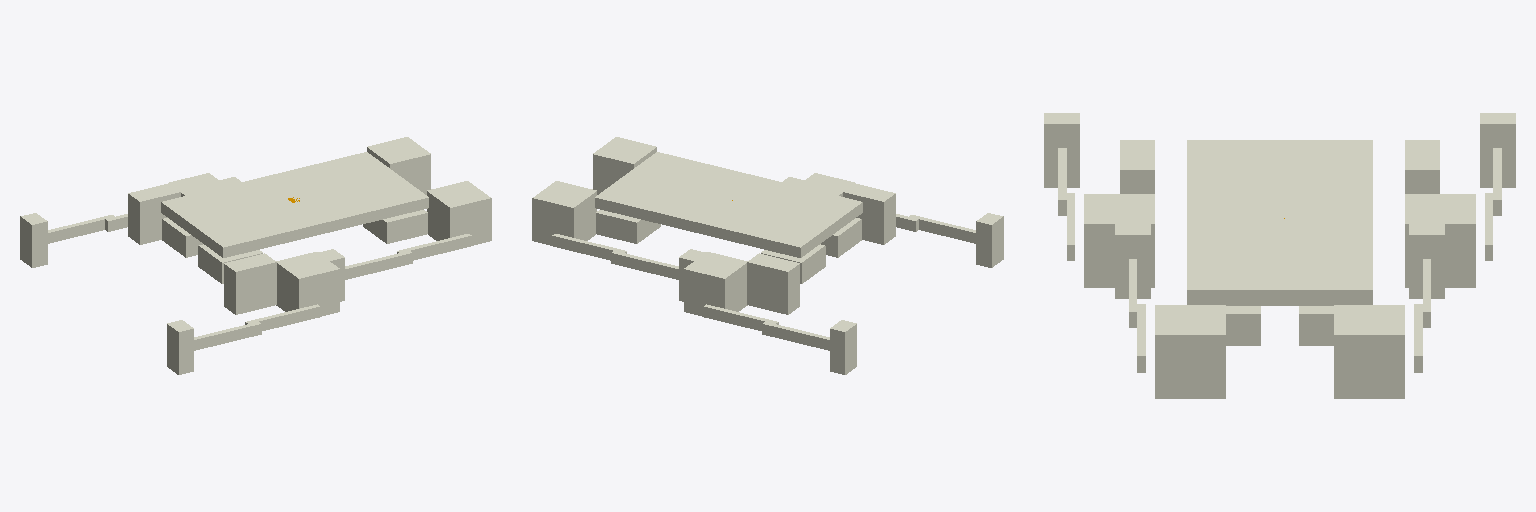
--- Render facts (derived) ---
3 views of the same robot in one strip: view 1: azimuth 30°, elevation 25°; view 2: azimuth 150°, elevation 25°; view 3: azimuth 270°, elevation 25° (orthographic).
Robot: stuart — 25 links, 24 joints (14 revolute, 4 continuous, 6 fixed); root link world; default pose: all joints at 0.
Visible links, largest first — view 1: chassis, motorFR2, motorRR3, motorRR2, motorRL2, motorFL2, RL_foot, motorFR1, RR_foot, FR_calf, RR_calf, motorRL1 (+5 smaller); view 2: chassis, motorFL2, motorRL3, motorRL2, motorRR2, motorFR2, RR_foot, motorFL1, RL_foot, FL_calf, RL_calf, motorRR1 (+5 smaller); view 3: chassis, motorFL2, motorFR2, motorRL3, motorRR3, FL_foot, FR_foot, RL_foot, RR_foot, motorRL2, motorRR2, motorFL1 (+9 smaller).
Link boxes in pixels (<box>): chassis: <box>161,152,428,257</box>; motorFR2: <box>427,181,491,245</box>; motorRR3: <box>276,252,339,316</box>; motorRR2: <box>224,253,276,314</box>; motorRL2: <box>128,183,180,244</box>; motorFL2: <box>367,137,430,194</box>; RL_foot: <box>20,213,47,267</box>; motorFR1: <box>363,210,427,243</box>; RR_foot: <box>167,320,193,374</box>; FR_calf: <box>345,251,412,279</box>; RR_calf: <box>194,322,261,350</box>; motorRL1: <box>162,218,202,257</box>; chassis: <box>595,152,862,257</box>; motorFL2: <box>532,181,596,245</box>; motorRL3: <box>684,252,747,316</box>; motorRL2: <box>747,253,799,314</box>; motorRR2: <box>843,183,895,244</box>; motorFR2: <box>593,137,656,194</box>; RR_foot: <box>976,213,1003,267</box>; motorFL1: <box>596,210,660,243</box>; RL_foot: <box>830,320,856,374</box>; FL_calf: <box>611,251,678,279</box>; RL_calf: <box>762,322,829,350</box>; motorRR1: <box>821,218,861,257</box>; chassis: <box>1187,140,1372,305</box>; motorFL2: <box>1334,305,1404,398</box>; motorFR2: <box>1155,305,1225,398</box>; motorRL3: <box>1405,194,1475,287</box>; motorRR3: <box>1084,194,1154,287</box>; FL_foot: <box>1409,224,1444,298</box>; FR_foot: <box>1115,224,1150,298</box>; RL_foot: <box>1480,113,1515,187</box>; RR_foot: <box>1044,113,1079,187</box>; motorRL2: <box>1405,140,1439,193</box>; motorRR2: <box>1120,140,1154,193</box>; motorFL1: <box>1299,306,1333,345</box>.
Bounding box of the posed robot: 0.34 × 0.266 × 0.065 m (x, y, z).
Geometry: primitives only (box / cylinder / sphere), no mesh files.

URDF robot description (stuart):
<?xml version="1.0" ?>

<robot name="stuart" xmlns:xacro="http://wiki.ros.org/xacro">

  <material name="grey">
    <color rgba="0.5 0.5 0.5 1"/>
  </material>
  <material name="dark_grey">
    <color rgba="0.3 0.3 0.3 1"/>
  </material>
  <material name="red">
    <color rgba="1.0 0.0 0.0 1"/>
  </material>
  <material name="green">
    <color rgba="0.0 1.0 0.0 1"/>
  </material>
  <material name="black">
    <color rgba="0.1 0.1 0.1 1"/>
  </material>
  <material name="light_grey">
    <color rgba="0.8 0.8 0.8 1"/>
  </material>
  <material name="blue">
    <color rgba="0.0 0.0 0.8 1.0"/>
  </material>
  <material name="silver">
    <color rgba="0.913725490196 0.913725490196 0.847058823529 1.0"/>
  </material>
  <material name="orange">
    <color rgba="1.0 0.423529411765 0.0392156862745 1.0"/>
  </material>
  <material name="brown">
    <color rgba="0.870588235294 0.811764705882 0.764705882353 1.0"/>
  </material>
  <material name="white">
    <color rgba="1.0 1.0 1.0 1.0"/>
  </material>

  <link name="world"/>
   <joint name="reference" type="fixed">
     <origin xyz="0.0 0.0 0.5"/>
     <parent link="world"/>
     <child link="chassis"/>
   </joint>

  <link name="chassis">
    <visual>
      <origin rpy="0 0 0" xyz="0 0 0"/>
      <geometry>
        <!--<mesh filename="package://stuart_urdf/meshes/chassis.dae"/> -->
	<box size="0.2 0.105 0.01"/>
      </geometry>
      <material name="silver"/>
    </visual>
    <collision>
      <origin rpy="0 0 0" xyz="0 0 0"/>
      <geometry>
        <box size="0.2 0.105 0.01"/>
      </geometry>
    </collision>
    <inertial>
      <origin rpy="0 0 0" xyz="0.002284 -4.1e-05 0.025165"/>
      <mass value="1.065"/>
      <inertia ixx="0.073348887" ixy="0.00030338" ixz="0.001918218" iyy="0.250684593" iyz="-7.5402e-05" izz="0.254469458"/>
    </inertial>
  </link>

  <!--<link name="pi">
    <visual>
      <origin rpy="0 0 0" xyz="0 0 0"/>
      <geometry>
	<box size="0.06 0.09 0.024"/>
      </geometry>
      <material name="orange"/>
    </visual>
    <collision>
      <origin rpy="0 0 0" xyz="0 0 0"/>
      <geometry>
        <box size="0.06 0.09 0.024"/>
      </geometry>
    </collision>
    <inertial>
      <origin rpy="0 0 0" xyz="0.002284 -4.1e-05 0.025165"/>
      <mass value="0.045"/>
      <inertia ixx="0.073348887" ixy="0.00030338" ixz="0.001918218" iyy="0.250684593" iyz="-7.5402e-05" izz="0.254469458"/>
    </inertial>
  </link>
  <joint name="pi_chassis" type="fixed">
    <parent link="chassis"/>
    <child link="pi"/>
    <origin rpy="0 0 0" xyz="-0.055 0 0.017"/>
    <axis xyz="0 0 0"/>
    <dynamics damping="0" friction="0"/>
    <limit effort="100" velocity="100"/>
  </joint>

  <link name="imu">
    <visual>
      <origin rpy="0 0 0" xyz="0 0 0"/>
      <geometry>
	<box size="0.051 0.036 0.015"/>
      </geometry>
      <material name="orange"/>
    </visual>
    <collision>
      <origin rpy="0 0 0" xyz="0 0 0"/>
      <geometry>
        <box size="0.051 0.036 0.015"/>
      </geometry>
    </collision>
    <inertial>
      <origin rpy="0 0 0" xyz="0.002284 -4.1e-05 0.025165"/>
      <mass value="0.05"/>
      <inertia ixx="0.073348887" ixy="0.00030338" ixz="0.001918218" iyy="0.250684593" iyz="-7.5402e-05" izz="0.254469458"/>
    </inertial>
  </link>
  <joint name="imu_chassis" type="fixed">
    <parent link="chassis"/>
    <child link="imu"/>
    <origin rpy="0 0 0" xyz="0.0705 0 0.0125"/>
    <axis xyz="0 0 0"/>
    <dynamics damping="0" friction="0"/>
    <limit effort="100" velocity="100"/>
  </joint>

  <link name="servodriver">
    <visual>
      <origin rpy="0 0 0" xyz="0 0 0"/>
      <geometry>
	<box size="0.024 0.06 0.024"/>
      </geometry>
      <material name="orange"/>
    </visual>
    <collision>
      <origin rpy="0 0 0" xyz="0 0 0"/>
      <geometry>
        <box size="0.024 0.06 0.024"/>
      </geometry>
    </collision>
    <inertial>
      <origin rpy="0 0 0" xyz="0.002284 -4.1e-05 0.025165"/>
      <mass value="0.009"/>
      <inertia ixx="0.073348887" ixy="0.00030338" ixz="0.001918218" iyy="0.250684593" iyz="-7.5402e-05" izz="0.254469458"/>
    </inertial>
  </link>
  <joint name="servodriver_chassis" type="fixed">
    <parent link="chassis"/>
    <child link="servodriver"/>
    <origin rpy="0 0 0" xyz="0.045 0 0.037"/>
    <axis xyz="0 0 0"/>
    <dynamics damping="0" friction="0"/>
    <limit effort="100" velocity="100"/>
  </joint>-->




  <link name="motorFL1">
    <visual>
      <origin rpy="0 0 0" xyz="0 0 0"/>
      <geometry>
	<box size="0.04 0.04 0.02"/>
      </geometry>
      <material name="silver"/>
    </visual>
    <collision>
      <origin rpy="0 0 0" xyz="0 0 0"/>
      <geometry>
	<box size="0.04 0.04 0.02"/>
      </geometry>
    </collision>
    <inertial>
      <origin rpy="0 0 0" xyz="0.002284 -4.1e-05 0.025165"/>
      <mass value="0.057"/>
      <inertia ixx="0.073348887" ixy="0.00030338" ixz="0.001918218" iyy="0.250684593" iyz="-7.5402e-05" izz="0.254469458"/>
    </inertial>
  </link>

  <link name="motorFR1">
    <visual>
      <origin rpy="0 0 0" xyz="0 0 0"/>
      <geometry>
	<box size="0.04 0.04 0.02"/>
      </geometry>
      <material name="silver"/>
    </visual>
    <collision>
      <origin rpy="0 0 0" xyz="0 0 0"/>
      <geometry>
	<box size="0.04 0.04 0.02"/>
      </geometry>
    </collision>
    <inertial>
      <origin rpy="0 0 0" xyz="0.002284 -4.1e-05 0.025165"/>
      <mass value="0.057"/>
      <inertia ixx="0.073348887" ixy="0.00030338" ixz="0.001918218" iyy="0.250684593" iyz="-7.5402e-05" izz="0.254469458"/>
    </inertial>
  </link>

  <link name="motorRL1">
    <visual>
      <origin rpy="0 0 0" xyz="0 0 0"/>
      <geometry>
	<box size="0.04 0.04 0.02"/>
      </geometry>
      <material name="silver"/>
    </visual>
    <collision>
      <origin rpy="0 0 0" xyz="0 0 0"/>
      <geometry>
	<box size="0.04 0.04 0.02"/>
      </geometry>
    </collision>
    <inertial>
      <origin rpy="0 0 0" xyz="0.002284 -4.1e-05 0.025165"/>
      <mass value="0.057"/>
      <inertia ixx="0.073348887" ixy="0.00030338" ixz="0.001918218" iyy="0.250684593" iyz="-7.5402e-05" izz="0.254469458"/>
    </inertial>
  </link>

  <link name="motorRR1">
    <visual>
      <origin rpy="0 0 0" xyz="0 0 0"/>
      <geometry>
	<box size="0.04 0.04 0.02"/>
      </geometry>
      <material name="silver"/>
    </visual>
    <collision>
      <origin rpy="0 0 0" xyz="0 0 0"/>
      <geometry>
	<box size="0.04 0.04 0.02"/>
      </geometry>
    </collision>
    <inertial>
      <origin rpy="0 0 0" xyz="0.002284 -4.1e-05 0.025165"/>
      <mass value="0.057"/>
      <inertia ixx="0.073348887" ixy="0.00030338" ixz="0.001918218" iyy="0.250684593" iyz="-7.5402e-05" izz="0.254469458"/>
    </inertial>
  </link>


  <joint name="chassis_motorFL" type="fixed">
    <parent link="chassis"/>
    <child link="motorFL1"/>
    <origin rpy="0 0 0" xyz="0.08 0.0305 -0.02"/>
    <axis xyz="0 0 0"/>
    <dynamics damping="0" friction="0"/>
    <limit effort="100" velocity="100"/>
  </joint>

  <joint name="chassis_motorFR" type="fixed">
    <parent link="chassis"/>
    <child link="motorFR1"/>
    <origin rpy="0 0 0" xyz="0.08 -0.0305 -0.02"/>
    <axis xyz="0 0 0"/>
    <dynamics damping="0" friction="0"/>
    <limit effort="100" velocity="100"/>
  </joint>

  <joint name="chassis_motorRL" type="fixed">
    <parent link="chassis"/>
    <child link="motorRL1"/>
    <origin rpy="0 0 0" xyz="-0.08 0.0305 -0.02"/>
    <axis xyz="0 0 0"/>
    <dynamics damping="0" friction="0"/>
    <limit effort="100" velocity="100"/>
  </joint>

  <joint name="chassis_motorRR" type="fixed">
    <parent link="chassis"/>
    <child link="motorRR1"/>
    <origin rpy="0 0 0" xyz="-0.08 -0.0305 -0.02"/>
    <axis xyz="0 0 0"/>
    <dynamics damping="0" friction="0"/>
    <limit effort="100" velocity="100"/>
  </joint>


  <link name="motorRL2">
    <visual>
      <origin rpy="0 0 0" xyz="0 0 0"/>
      <geometry>
	<box size="0.04 0.02 0.04"/>
      </geometry>
      <material name="silver"/>
    </visual>
    <collision>
      <origin rpy="0 0 0" xyz="0 0 0"/>
      <geometry>
	<box size="0.04 0.02 0.04"/>
      </geometry>
    </collision>
    <inertial>
      <origin rpy="0 0 0" xyz="0.002284 -4.1e-05 0.025165"/>
      <mass value="0.083"/>
      <inertia ixx="0.073348887" ixy="0.00030338" ixz="0.001918218" iyy="0.250684593" iyz="-7.5402e-05" izz="0.254469458"/>
    </inertial>
  </link>

  <link name="motorRR2">
    <visual>
      <origin rpy="0 0 0" xyz="0 0 0"/>
      <geometry>
	<box size="0.04 0.02 0.04"/>
      </geometry>
      <material name="silver"/>
    </visual>
    <collision>
      <origin rpy="0 0 0" xyz="0 0 0"/>
      <geometry>
	<box size="0.04 0.02 0.04"/>
      </geometry>
    </collision>
    <inertial>
      <origin rpy="0 0 0" xyz="0.002284 -4.1e-05 0.025165"/>
      <mass value="0.083"/>
      <inertia ixx="0.073348887" ixy="0.00030338" ixz="0.001918218" iyy="0.250684593" iyz="-7.5402e-05" izz="0.254469458"/>
    </inertial>
  </link>


  <joint name="motorRL1_motorRL2" type="revolute">
    <parent link="motorRL1"/>
    <child link="motorRL2"/>
    <origin rpy="0 0 0" xyz="-0.010 0.05 0"/> <!-- 0.04 + bracket distance -->
    <axis xyz="0 1 0"/>
    <dynamics damping="0" friction="0"/>
    <limit effort="100" lower="-3.14" upper="3.14" velocity="100"/>
  </joint>

  <joint name="motorRR1_motorRR2" type="revolute">
    <parent link="motorRR1"/>
    <child link="motorRR2"/>
    <origin rpy="0 0 0" xyz="-0.010 -0.05 0"/>
    <axis xyz="0 1 0"/>
    <dynamics damping="0" friction="0"/>
    <limit effort="100" lower="-3.14" upper="3.14" velocity="100"/>
  </joint>


  <link name="motorRL3">
    <visual>
      <origin rpy="0 0 0" xyz="0 0.01 0"/>
      <geometry>
	<box size="0.04 0.04 0.04"/>
      </geometry>
      <material name="silver"/>
    </visual>
    <collision>
      <origin rpy="0 0 0" xyz="0 0 0"/>
      <geometry>
	<box size="0.04 0.04 0.04"/>
      </geometry>
    </collision>
    <inertial>
      <origin rpy="0 0 0" xyz="0.002284 -4.1e-05 0.025165"/>
      <mass value="0.158"/>
      <inertia ixx="0.073348887" ixy="0.00030338" ixz="0.001918218" iyy="0.250684593" iyz="-7.5402e-05" izz="0.254469458"/>
    </inertial>
  </link>

  <link name="motorRR3">
    <visual>
      <origin rpy="0 0 0" xyz="0 -0.01 0"/>
      <geometry>
	<box size="0.04 0.04 0.04"/>
      </geometry>
      <material name="silver"/>
    </visual>
    <collision>
      <origin rpy="0 0 0" xyz="0 0 0"/>
      <geometry>
	<box size="0.04 0.04 0.04"/>
      </geometry>
    </collision>
    <inertial>
      <origin rpy="0 0 0" xyz="0.002284 -4.1e-05 0.025165"/>
      <mass value="0.158"/>
      <inertia ixx="0.073348887" ixy="0.00030338" ixz="0.001918218" iyy="0.250684593" iyz="-7.5402e-05" izz="0.254469458"/>
    </inertial>
  </link>


  <joint name="motorRL2_motorRL3" type="revolute">
    <parent link="motorRL2"/>
    <child link="motorRL3"/>
    <origin rpy="0 0 0" xyz="0.05 0 -0.01"/>
    <axis xyz="1 0 0"/>
    <dynamics damping="0" friction="0"/>
    <limit effort="100" lower="-3.14" upper="3.14" velocity="100"/>
  </joint>

  <joint name="motorRR2_motorRR3" type="revolute">
    <parent link="motorRR2"/>
    <child link="motorRR3"/>
    <origin rpy="0 0 0" xyz="0.05 0 -0.01"/>
    <axis xyz="1 0 0"/>
    <dynamics damping="0" friction="0"/>
    <limit effort="100" lower="-3.14" upper="3.14" velocity="100"/>
  </joint>


  <link name="motorFL2">
    <visual>
      <origin rpy="0 0 0" xyz="0 0.01 0"/>
      <geometry>
	<box size="0.04 0.04 0.04"/>
      </geometry>
      <material name="silver"/>
    </visual>
    <collision>
      <origin rpy="0 0 0" xyz="0 0 0"/>
      <geometry>
	<box size="0.04 0.04 0.04"/>
      </geometry>
    </collision>
    <inertial>
      <origin rpy="0 0 0" xyz="0.002284 -4.1e-05 0.025165"/>
      <mass value="0.158"/>
      <inertia ixx="0.073348887" ixy="0.00030338" ixz="0.001918218" iyy="0.250684593" iyz="-7.5402e-05" izz="0.254469458"/>
    </inertial>
  </link>

  <link name="motorFR2">
    <visual>
      <origin rpy="0 0 0" xyz="0 -0.01 0"/>
      <geometry>
	<box size="0.04 0.04 0.04"/>
      </geometry>
      <material name="silver"/>
    </visual>
    <collision>
      <origin rpy="0 0 0" xyz="0 0 0"/>
      <geometry>
	<box size="0.04 0.04 0.04"/>
      </geometry>
    </collision>
    <inertial>
      <origin rpy="0 0 0" xyz="0.002284 -4.1e-05 0.025165"/>
      <mass value="0.158"/>
      <inertia ixx="0.073348887" ixy="0.00030338" ixz="0.001918218" iyy="0.250684593" iyz="-7.5402e-05" izz="0.254469458"/>
    </inertial>
  </link>



  <joint name="motorFL1_motorFL2" type="revolute">
    <parent link="motorFL1"/>
    <child link="motorFL2"/>
    <origin rpy="0 0 0" xyz="0.05 0.01 0"/>
    <axis xyz="1 0 0"/>
    <dynamics damping="0" friction="0"/>
    <limit effort="100" lower="-3.14" upper="3.14" velocity="100"/>
  </joint>
  <joint name="motorFR1_motorFR2" type="revolute">
    <parent link="motorFR1"/>
    <child link="motorFR2"/>
    <origin rpy="0 0 0" xyz="0.05 -0.01 0"/>
    <axis xyz="1 0 0"/>
    <dynamics damping="0" friction="0"/>
    <limit effort="100" lower="-3.14" upper="3.14" velocity="100"/>
  </joint>





  <link name="FL_thigh">
    <visual>
      <origin rpy="0 0 0" xyz="-0.03 0 0"/>
      <geometry>
	<!--<mesh filename="package://stuart_urdf/meshes/thigh.dae"/>-->
        <box size="0.07 0.005 0.01"/>
      </geometry>
      <material name="silver"/>
    </visual>
    <collision>
      <origin rpy="0 0 0" xyz="0 0 0"/>
      <geometry>
	<box size="0.04 0.04 0.04"/>
      </geometry>
    </collision>
    <inertial>
      <origin rpy="0 0 0" xyz="0.002284 -4.1e-05 0.025165"/>
      <mass value="0.0033"/>
      <inertia ixx="0.073348887" ixy="0.00030338" ixz="0.001918218" iyy="0.250684593" iyz="-7.5402e-05" izz="0.254469458"/>
    </inertial>
  </link>

  <link name="FR_thigh">
    <visual>
      <origin rpy="0 0 0" xyz="-0.03 0 0"/>
      <geometry>
	<!--<mesh filename="package://stuart_urdf/meshes/thigh.dae"/>-->
        <box size="0.07 0.005 0.01"/>
      </geometry>
      <material name="silver"/>
    </visual>
    <collision>
      <origin rpy="0 0 0" xyz="0 0 0"/>
      <geometry>
	<box size="0.04 0.04 0.04"/>
      </geometry>
    </collision>
    <inertial>
      <origin rpy="0 0 0" xyz="0.002284 -4.1e-05 0.025165"/>
      <mass value="0.0033"/>
      <inertia ixx="0.073348887" ixy="0.00030338" ixz="0.001918218" iyy="0.250684593" iyz="-7.5402e-05" izz="0.254469458"/>
    </inertial>
  </link>

  <link name="RL_thigh">
    <visual>
      <origin rpy="0 0 0" xyz="-0.03 0 0"/>
      <geometry>
	<!--<mesh filename="package://stuart_urdf/meshes/thigh.dae"/>-->
        <box size="0.07 0.005 0.01"/>
      </geometry>
      <material name="silver"/>
    </visual>
    <collision>
      <origin rpy="0 0 0" xyz="0 0 0"/>
      <geometry>
	<box size="0.04 0.04 0.04"/>
      </geometry>
    </collision>
    <inertial>
      <origin rpy="0 0 0" xyz="0.002284 -4.1e-05 0.025165"/>
      <mass value="0.0033"/>
      <inertia ixx="0.073348887" ixy="0.00030338" ixz="0.001918218" iyy="0.250684593" iyz="-7.5402e-05" izz="0.254469458"/>
    </inertial>
  </link>

  <link name="RR_thigh">
    <visual>
      <origin rpy="0 0 0" xyz="-0.03 0 0"/>
      <geometry>
	<!--<mesh filename="package://stuart_urdf/meshes/thigh.dae"/>-->
        <box size="0.07 0.005 0.01"/>
      </geometry>
      <material name="silver"/>
    </visual>
    <collision>
      <origin rpy="0 0 0" xyz="0 0 0"/>
      <geometry>
	<box size="0.04 0.04 0.04"/>
      </geometry>
    </collision>
    <inertial>
      <origin rpy="0 0 0" xyz="0.002284 -4.1e-05 0.025165"/>
      <mass value="0.0033"/>
      <inertia ixx="0.073348887" ixy="0.00030338" ixz="0.001918218" iyy="0.250684593" iyz="-7.5402e-05" izz="0.254469458"/>
    </inertial>
  </link>

  <joint name="motorFL2_thigh" type="revolute">
    <parent link="motorFL2"/>
    <child link="FL_thigh"/>
    <origin rpy="0 0 0" xyz="-0.01 0.0375 -0.01"/>
    <axis xyz="0 1 0"/>
    <dynamics damping="0" friction="0"/>
    <limit effort="100" lower="-3.14" upper="3.14" velocity="100"/>
  </joint>
  <joint name="motorFR2_thigh" type="revolute">
    <parent link="motorFR2"/>
    <child link="FR_thigh"/>
    <origin rpy="0 0 0" xyz="-0.01 -0.0375 -0.01"/>
    <axis xyz="0 1 0"/>
    <dynamics damping="0" friction="0"/>
    <limit effort="100" lower="-3.14" upper="3.14" velocity="100"/>
  </joint>


  <joint name="motorRL3_thigh" type="revolute">
    <parent link="motorRL3"/>
    <child link="RL_thigh"/>
    <origin rpy="0 0 0" xyz="-0.01 0.0375 -0.01"/>
    <axis xyz="0 1 0"/>
    <dynamics damping="0" friction="0"/>
    <limit effort="100" lower="-3.14" upper="3.14" velocity="100"/>
  </joint>
  <joint name="motorRR3_thigh" type="revolute">
    <parent link="motorRR3"/>
    <child link="RR_thigh"/>
    <origin rpy="0 0 0" xyz="-0.01 -0.0375 -0.01"/>
    <axis xyz="0 1 0"/>
    <dynamics damping="0" friction="0"/>
    <limit effort="100" lower="-3.14" upper="3.14" velocity="100"/>
  </joint>

  <link name="FL_calf">
    <visual>
      <origin rpy="0 0 0" xyz="-0.035 0 0"/>
      <geometry>
	<!--<mesh filename="package://stuart_urdf/meshes/thigh.dae"/>-->
        <box size="0.08 0.005 0.01"/>
      </geometry>
      <material name="silver"/>
    </visual>
    <collision>
      <origin rpy="0 0 0" xyz="0 0 0"/>
      <geometry>
	<box size="0.04 0.04 0.04"/>
      </geometry>
    </collision>
    <inertial>
      <origin rpy="0 0 0" xyz="0.002284 -4.1e-05 0.025165"/>
      <mass value="0.00379"/>
      <inertia ixx="0.073348887" ixy="0.00030338" ixz="0.001918218" iyy="0.250684593" iyz="-7.5402e-05" izz="0.254469458"/>
    </inertial>
  </link>

  <link name="FR_calf">
    <visual>
      <origin rpy="0 0 0" xyz="-0.035 0 0"/>
      <geometry>
	<!--<mesh filename="package://stuart_urdf/meshes/thigh.dae"/>-->
        <box size="0.08 0.005 0.01"/>
      </geometry>
      <material name="silver"/>
    </visual>
    <collision>
      <origin rpy="0 0 0" xyz="0 0 0"/>
      <geometry>
	<box size="0.04 0.04 0.04"/>
      </geometry>
    </collision>
    <inertial>
      <origin rpy="0 0 0" xyz="0.002284 -4.1e-05 0.025165"/>
      <mass value="0.00379"/>
      <inertia ixx="0.073348887" ixy="0.00030338" ixz="0.001918218" iyy="0.250684593" iyz="-7.5402e-05" izz="0.254469458"/>
    </inertial>
  </link>

  <link name="RL_calf">
    <visual>
      <origin rpy="0 0 0" xyz="-0.035 0 0"/>
      <geometry>
	<!--<mesh filename="package://stuart_urdf/meshes/thigh.dae"/>-->
        <box size="0.08 0.005 0.01"/>
      </geometry>
      <material name="silver"/>
    </visual>
    <collision>
      <origin rpy="0 0 0" xyz="0 0 0"/>
      <geometry>
	<box size="0.04 0.04 0.04"/>
      </geometry>
    </collision>
    <inertial>
      <origin rpy="0 0 0" xyz="0.002284 -4.1e-05 0.025165"/>
      <mass value="0.00379"/>
      <inertia ixx="0.073348887" ixy="0.00030338" ixz="0.001918218" iyy="0.250684593" iyz="-7.5402e-05" izz="0.254469458"/>
    </inertial>
  </link>

  <link name="RR_calf">
    <visual>
      <origin rpy="0 0 0" xyz="-0.035 0 0"/>
      <geometry>
	<!--<mesh filename="package://stuart_urdf/meshes/thigh.dae"/>-->
        <box size="0.08 0.005 0.01"/>
      </geometry>
      <material name="silver"/>
    </visual>
    <collision>
      <origin rpy="0 0 0" xyz="0 0 0"/>
      <geometry>
	<box size="0.04 0.04 0.04"/>
      </geometry>
    </collision>
    <inertial>
      <origin rpy="0 0 0" xyz="0.002284 -4.1e-05 0.025165"/>
      <mass value="0.00379"/>
      <inertia ixx="0.073348887" ixy="0.00030338" ixz="0.001918218" iyy="0.250684593" iyz="-7.5402e-05" izz="0.254469458"/>
    </inertial>
  </link>

  <joint name="FLthigh_calf" type="revolute">
    <parent link="FL_thigh"/>
    <child link="FL_calf"/>
    <origin rpy="0 0 0" xyz="-0.060 0.005 0"/>
    <axis xyz="0 1 0"/>
    <dynamics damping="0" friction="0"/>
    <limit effort="100" lower="-3.14" upper="3.14" velocity="100"/>
  </joint>
  <joint name="FRthigh_calf" type="revolute">
    <parent link="FR_thigh"/>
    <child link="FR_calf"/>
    <origin rpy="0 0 0" xyz="-0.060 -0.005 0"/>
    <axis xyz="0 1 0"/>
    <dynamics damping="0" friction="0"/>
    <limit effort="100" lower="-3.14" upper="3.14" velocity="100"/>
  </joint>
  <joint name="RLthigh_calf" type="revolute">
    <parent link="RL_thigh"/>
    <child link="RL_calf"/>
    <origin rpy="0 0 0" xyz="-0.060 0.005 0"/>
    <axis xyz="0 1 0"/>
    <dynamics damping="0" friction="0"/>
    <limit effort="100" lower="-3.14" upper="3.14" velocity="100"/>
  </joint>
  <joint name="RRthigh_calf" type="revolute">
    <parent link="RR_thigh"/>
    <child link="RR_calf"/>
    <origin rpy="0 0 0" xyz="-0.060 -0.005 0"/>
    <axis xyz="0 1 0"/>
    <dynamics damping="0" friction="0"/>
    <limit effort="100" lower="-3.14" upper="3.14" velocity="100"/>
  </joint>

  <link name="FL_foot">
    <visual>
      <origin rpy="0 0 0" xyz="-0.0025 0 0"/>
      <geometry>
	<!--<mesh filename="package://stuart_urdf/meshes/foot.dae"/>-->
	<box size="0.015 0.02 0.04"/>
      </geometry>
      <material name="silver"/>
    </visual>
    <collision>
      <origin rpy="0 0 0" xyz="0 0 0"/>
      <geometry>
	<box size="0.015 0.02 0.04"/>
      </geometry>
      <surface>
        <friction>
          <ode>
            <mu>10000.0</mu>
            <mu2>10000.0</mu2>
          </ode>
        </friction>
      </surface>
    </collision>
    <inertial>
      <origin rpy="0 0 0" xyz="0.002284 -4.1e-05 0.025165"/>
      <mass value="0.00566"/>
      <inertia ixx="0.073348887" ixy="0.00030338" ixz="0.001918218" iyy="0.250684593" iyz="-7.5402e-05" izz="0.254469458"/>
    </inertial>
  </link>

  <link name="FR_foot">
    <visual>
      <origin rpy="0 0 0" xyz="-0.0025 0 0"/>
      <geometry>
	<!--<mesh filename="package://stuart_urdf/meshes/foot.dae"/>-->
	<box size="0.015 0.02 0.04"/>
      </geometry>
      <material name="silver"/>
    </visual>
    <collision>
      <origin rpy="0 0 0" xyz="0 0 0"/>
      <geometry>
	<box size="0.015 0.02 0.04"/>
      </geometry>
      <surface>
        <friction>
          <ode>
            <mu>10000.0</mu>
            <mu2>10000.0</mu2>
          </ode>
        </friction>
      </surface>
    </collision>
    <inertial>
      <origin rpy="0 0 0" xyz="0.002284 -4.1e-05 0.025165"/>
      <mass value="0.00566"/>
      <inertia ixx="0.073348887" ixy="0.00030338" ixz="0.001918218" iyy="0.250684593" iyz="-7.5402e-05" izz="0.254469458"/>
    </inertial>
  </link>

  <link name="RL_foot">
    <visual>
      <origin rpy="0 0 0" xyz="-0.0025 0 0"/>
      <geometry>
	<!--<mesh filename="package://stuart_urdf/meshes/foot.dae"/>-->
	<box size="0.015 0.02 0.04"/>
      </geometry>
      <material name="silver"/>
    </visual>
    <collision>
      <origin rpy="0 0 0" xyz="0 0 0"/>
      <geometry>
	<box size="0.015 0.02 0.04"/>
      </geometry>
      <surface>
        <friction>
          <ode>
            <mu>10000.0</mu>
            <mu2>10000.0</mu2>
          </ode>
        </friction>
      </surface>
    </collision>
    <inertial>
      <origin rpy="0 0 0" xyz="0.002284 -4.1e-05 0.025165"/>
      <mass value="0.00566"/>
      <inertia ixx="0.073348887" ixy="0.00030338" ixz="0.001918218" iyy="0.250684593" iyz="-7.5402e-05" izz="0.254469458"/>
    </inertial>
  </link>

  <link name="RR_foot">
    <visual>
      <origin rpy="0 0 0" xyz="-0.0025 0 0"/>
      <geometry>
	<!--<mesh filename="package://stuart_urdf/meshes/foot.dae"/>-->
	<box size="0.015 0.02 0.04"/>
      </geometry>
      <material name="silver"/>
    </visual>
    <collision>
      <origin rpy="0 0 0" xyz="0 0 0"/>
      <geometry>
	<box size="0.015 0.02 0.04"/>
      </geometry>
      <surface>
        <friction>
          <ode>
            <mu>10000.0</mu>
            <mu2>10000.0</mu2>
          </ode>
        </friction>
      </surface>
    </collision>
    <inertial>
      <origin rpy="0 0 0" xyz="0.002284 -4.1e-05 0.025165"/>
      <mass value="0.00566"/>
      <inertia ixx="0.073348887" ixy="0.00030338" ixz="0.001918218" iyy="0.250684593" iyz="-7.5402e-05" izz="0.254469458"/>
    </inertial>
  </link>


  <joint name="FLcalf_foot" type="continuous">
    <parent link="FL_calf"/>
    <child link="FL_foot"/>
    <origin rpy="0 0 0" xyz="-0.07 0 0"/>
    <axis xyz="0 1 0"/>
    <dynamics damping="0" friction="0"/>
    <limit effort="0" velocity="100"/>
  </joint>
  <joint name="FRcalf_foot" type="continuous">
    <parent link="FR_calf"/>
    <child link="FR_foot"/>
    <origin rpy="0 0 0" xyz="-0.07 0 0"/>
    <axis xyz="0 1 0"/>
    <dynamics damping="0" friction="0"/>
    <limit effort="0" velocity="100"/>
  </joint>
  <joint name="RLcalf_foot" type="continuous">
    <parent link="RL_calf"/>
    <child link="RL_foot"/>
    <origin rpy="0 0 0" xyz="-0.07 0 0"/>
    <axis xyz="0 1 0"/>
    <dynamics damping="0" friction="0"/>
    <limit effort="0" velocity="100"/>
  </joint>
  <joint name="RRcalf_foot" type="continuous">
    <parent link="RR_calf"/>
    <child link="RR_foot"/>
    <origin rpy="0 0 0" xyz="-0.07 0 0"/>
    <axis xyz="0 1 0"/>
    <dynamics damping="0" friction="0"/>
    <limit effort="0" velocity="100"/>
  </joint>











  <link name="imu_link">
    <inertial>
      <mass value="0.01"/>
      <origin xyz="0 0 0"/>
      <inertia ixx="0.000001" ixy="0" ixz="0" iyy="0.000001" iyz="0" izz="0.000001"/>
    </inertial>
    <visual>
      <origin rpy="0 0 0" xyz="0 0 0"/>
      <geometry>
        <box size="0.01 0.01 0.01"/>
      </geometry>
    </visual>
  </link>
  <joint name="imu_joint" type="fixed">
    <origin rpy="3.14159265359 0 0" xyz="0 0 0"/>
    <parent link="chassis"/>
    <child link="imu_link"/>
  </joint>

  <gazebo reference="imu_link">
    <sensor name="imu_link" type="imu">
      <always_on>1</always_on>
      <update_rate>500</update_rate>
      <visualize>true</visualize>
      <topic>__default_topic__</topic>
      <imu>

      </imu>
    </sensor>
  </gazebo>
  <gazebo>
    <plugin filename="libGazeboXBotPlugin.so" name="xbot_plugin_handler">
      <path_to_config_file>configs/stuart/configs/stuart.yaml</path_to_config_file>
    </plugin>
  </gazebo>
  <origin rpy="0 0 0" xyz="0.0 0.0 0.20"/>
</robot>
